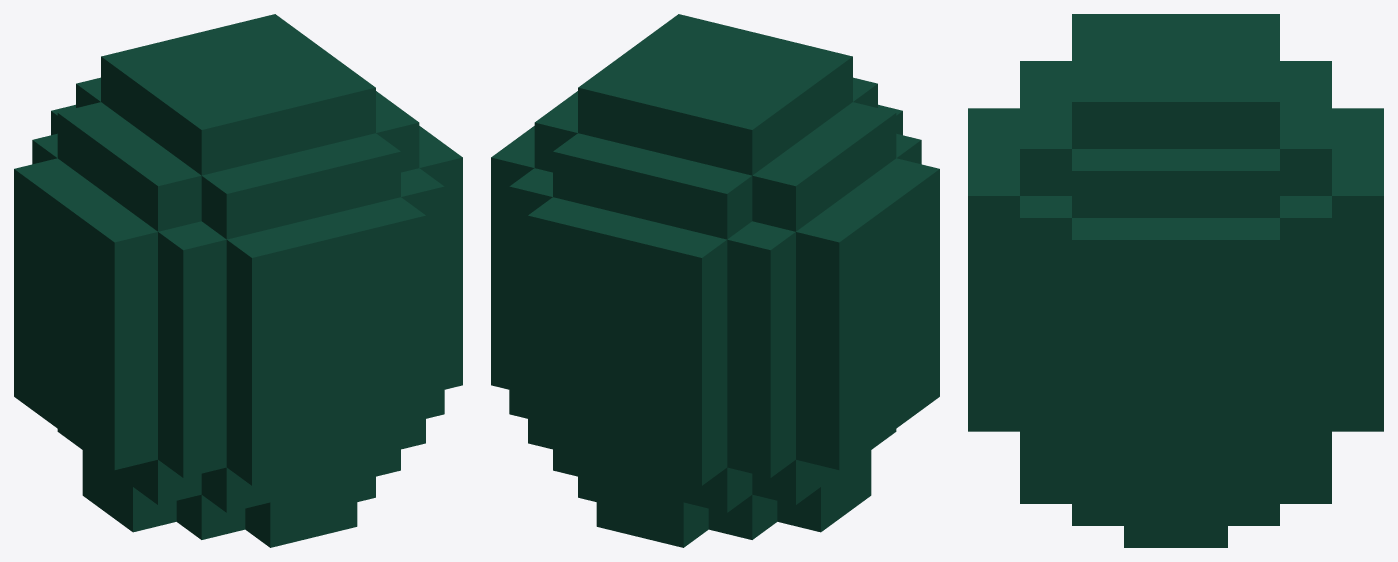
File: bush_alone_2.obj
3 views of the same model, side by side, from view 1: azimuth 30°, elevation 25°; view 2: azimuth 150°, elevation 25°; view 3: azimuth 270°, elevation 25° (orthographic). The views are drawn at different scales.
Bounding box in the file's own units: 0.8 × 0.9 × 0.8.
1 material, 1 textured.
